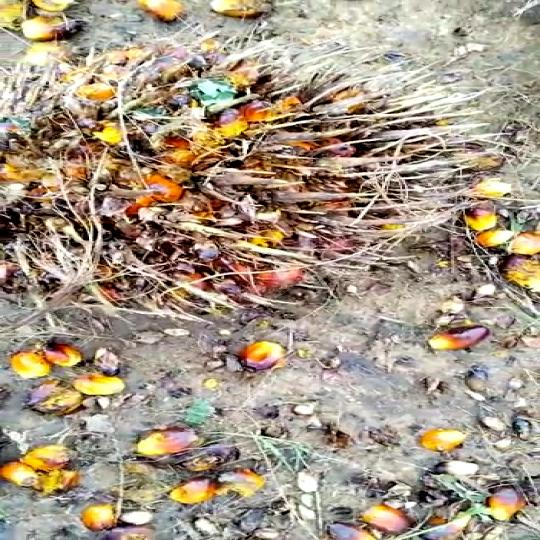terlalu masak: (0, 22, 538, 344)
